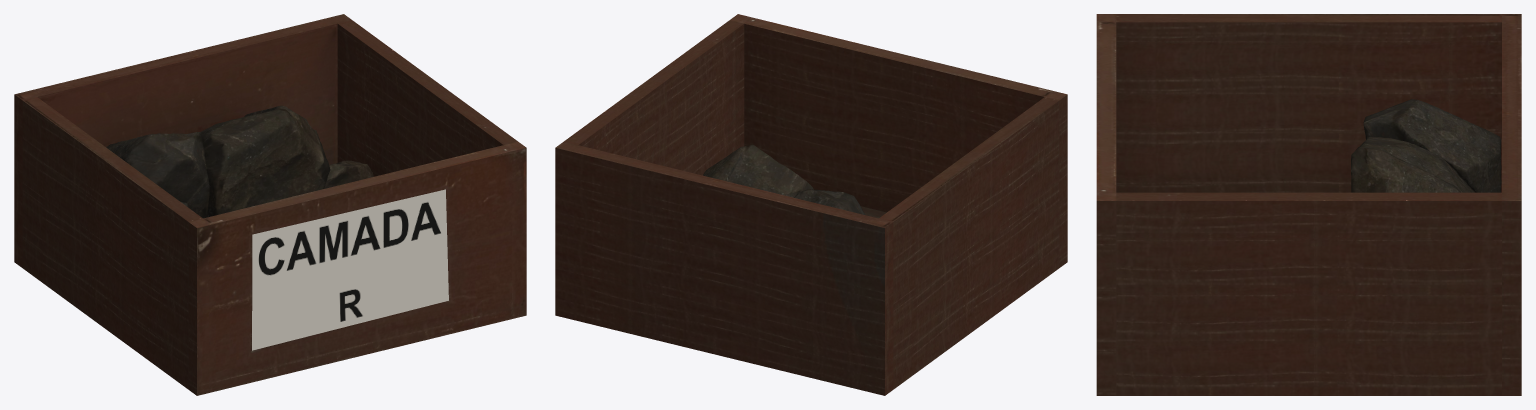
Rendered from camada_03_05_r.glb.
3 views of the same model, side by side, from view 1: azimuth 30°, elevation 25°; view 2: azimuth 150°, elevation 25°; view 3: azimuth 270°, elevation 25° (orthographic). The views are drawn at different scales.
Visible parts, largest first — view 1: Parede_Frontal_h05, Lateral_Esquerda_h05, Parede_Traseira_h05, Etiqueta_h05, Lateral_Direita_h05, Pedra_02_h05, Pedra_01_h05, Pedra_04_h05; view 2: Parede_Traseira_h05, Parede_Frontal_h05, Lateral_Esquerda_h05, Lateral_Direita_h05, Pedra_02_h05, Pedra_01_h05; view 3: Lateral_Direita_h05, Lateral_Esquerda_h05, Parede_Frontal_h05, Parede_Traseira_h05, Pedra_01_h05, Pedra_02_h05.
Boxes of the visible parts, x1,y1,x2,y2 form: Parede_Frontal_h05: (188,141,526,395); Lateral_Esquerda_h05: (22,97,202,389); Parede_Traseira_h05: (14,14,351,267); Etiqueta_h05: (252,189,448,350); Lateral_Direita_h05: (337,20,517,176); Pedra_02_h05: (200,105,330,217); Pedra_01_h05: (106,132,209,218); Pedra_04_h05: (324,160,373,188); Parede_Traseira_h05: (555,141,893,395); Parede_Frontal_h05: (730,14,1067,267); Lateral_Esquerda_h05: (879,97,1059,389); Lateral_Direita_h05: (564,20,744,175); Pedra_02_h05: (703,144,813,197); Pedra_01_h05: (794,189,864,214); Lateral_Direita_h05: (1116,192,1501,395); Lateral_Esquerda_h05: (1116,14,1501,192); Parede_Frontal_h05: (1096,14,1116,395); Parede_Traseira_h05: (1502,14,1521,395); Pedra_01_h05: (1363,99,1501,192); Pedra_02_h05: (1351,136,1475,192).
Bounding box in the file's own units: 0.3 × 0.1459 × 0.2883.
3 materials, 3 textured.
